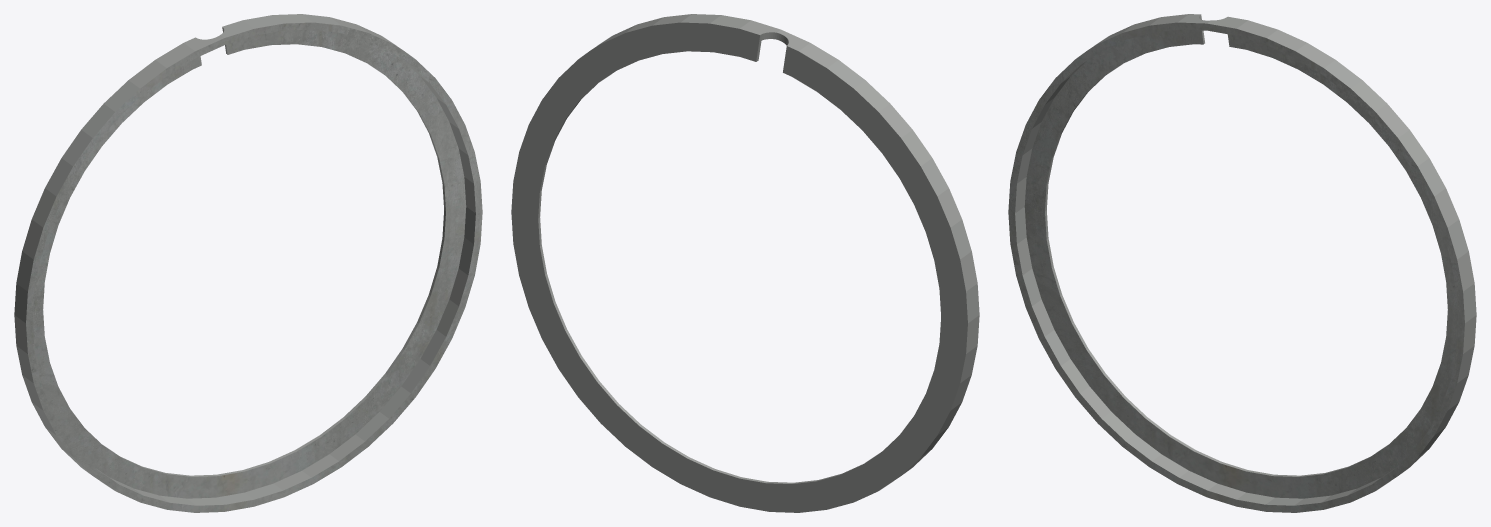
File: pool_036.obj
The picture shows the model from 3 angles, left to right: view 1: azimuth 30°, elevation 25°; view 2: azimuth 150°, elevation 25°; view 3: azimuth 330°, elevation 25°; orthographic projection.
Bounding box in the file's own units: 68 × 68 × 3.
